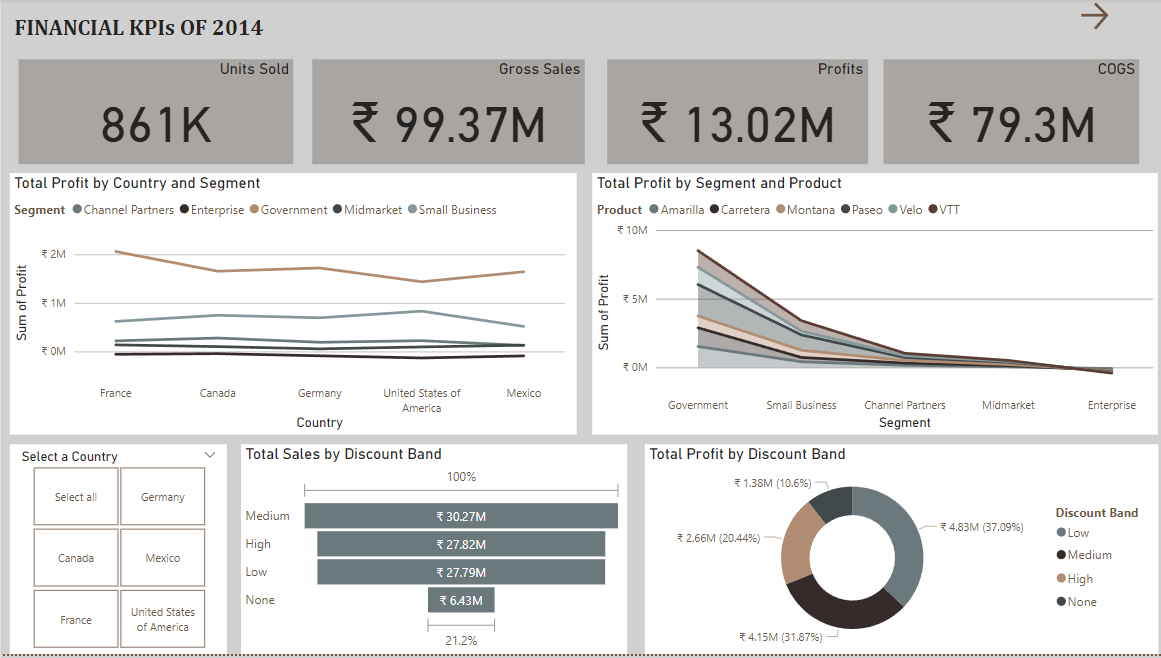

This screenshot's page, from the dashboard's own definition file:
{"tool":"powerbi","page":{"name":"Page 1","canvas":[1280,720],"ordinal":0},"visuals":[{"type":"card","title":"Units Sold","fields":{"Values":["Sum(Financials.Units Sold)"]},"box":[19.6,67.2,301.9,114.9],"z":0},{"type":"card","title":"Gross Sales","fields":{"Values":["Sum(Financials.Gross Sales)"]},"box":[341.1,67.2,299.5,114.9],"z":1000},{"type":"card","title":"COGS","fields":{"Values":["Sum(Financials.COGS)"]},"box":[969.4,67.2,281.2,114.9],"z":2000},{"type":"card","title":"Profits","fields":{"Values":["Sum(Financials.Profit)"]},"box":[665,67.2,286,114.9],"z":3000},{"type":"donutChart","title":"Total Profit by Discount Band","fields":{"Category":["Discounts.Discount Band"],"Y":["Sum(Financials.Profit)"]},"box":[706.7,489.9,564,230.5],"z":4000},{"type":"funnel","title":"Total Sales by Discount Band","fields":{"Category":["Discounts.Discount Band"],"Y":["Sum(Financials. Sales)"]},"box":[263.5,489.9,424,230.5],"z":5000},{"type":"lineChart","title":"Total Profit by Country and Segment","fields":{"Category":["Country.Country"],"Y":["Sum(Financials.Profit)"],"Series":["Segments.Segment"]},"box":[9.8,191.9,622.2,287.3],"z":6000},{"type":"stackedAreaChart","title":"Total Profit by Segment and Product","fields":{"Category":["Segments.Segment"],"Y":["Sum(Financials.Profit)"],"Series":["Products.Product"]},"box":[649.1,191.9,621,287.3],"z":7000},{"type":"textbox","box":[9.6,12.3,292.3,42.5],"z":8000},{"type":"slicer","title":"Select a Country","fields":{"Values":["Country.Country"]},"box":[9.6,489.9,238.8,230.5],"z":9000},{"type":"actionButton","box":[1180.1,0,100.2,39.8],"z":9001}]}

Visuals, with their boxes in screenshot pixels (x1, y1, x2, y2), scaled from the page's 1280x720 canvas onto the 1161x658 screenshot:
"Units Sold" card: 18, 61, 292, 166
"Gross Sales" card: 309, 61, 581, 166
"COGS" card: 879, 61, 1134, 166
"Profits" card: 603, 61, 863, 166
"Total Profit by Discount Band" donutChart: 641, 448, 1153, 657
"Total Sales by Discount Band" funnel: 239, 448, 624, 657
"Total Profit by Country and Segment" lineChart: 9, 175, 573, 438
"Total Profit by Segment and Product" stackedAreaChart: 589, 175, 1152, 438
textbox: 9, 11, 274, 50
"Select a Country" slicer: 9, 448, 225, 657
actionButton: 1070, 0, 1160, 36
